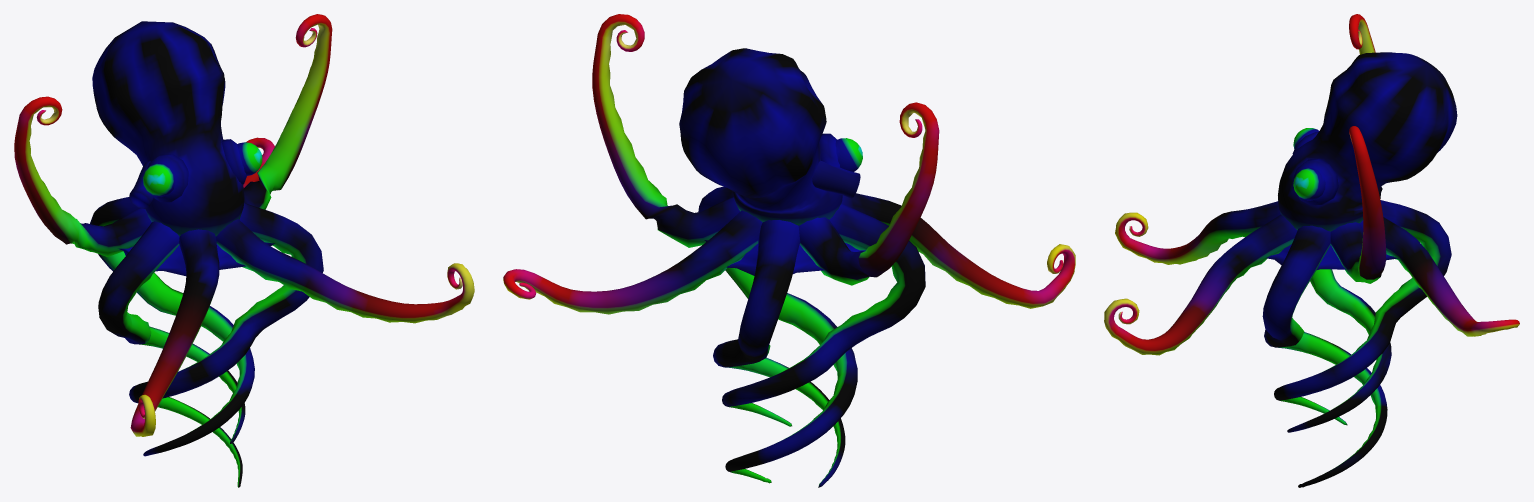
File: octopus.glb
The picture shows the model from 3 angles, left to right: view 1: azimuth 30°, elevation 25°; view 2: azimuth 150°, elevation 25°; view 3: azimuth 270°, elevation 25°; orthographic projection. The views are drawn at different scales.
Visible parts, largest first — view 1: octopus; view 2: octopus; view 3: octopus.
Part boxes in pixels (x1,y1,x2,y2): octopus: (14, 14, 474, 487); octopus: (503, 14, 1075, 487); octopus: (1104, 14, 1519, 487).
Bounding box in the file's own units: 4.37 × 5.55 × 5.04.
